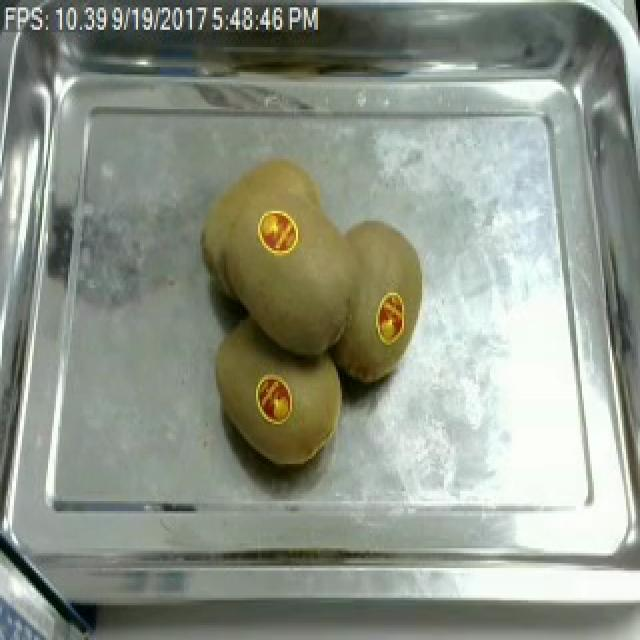Fruit: (192, 171, 434, 367), (206, 320, 354, 471)
